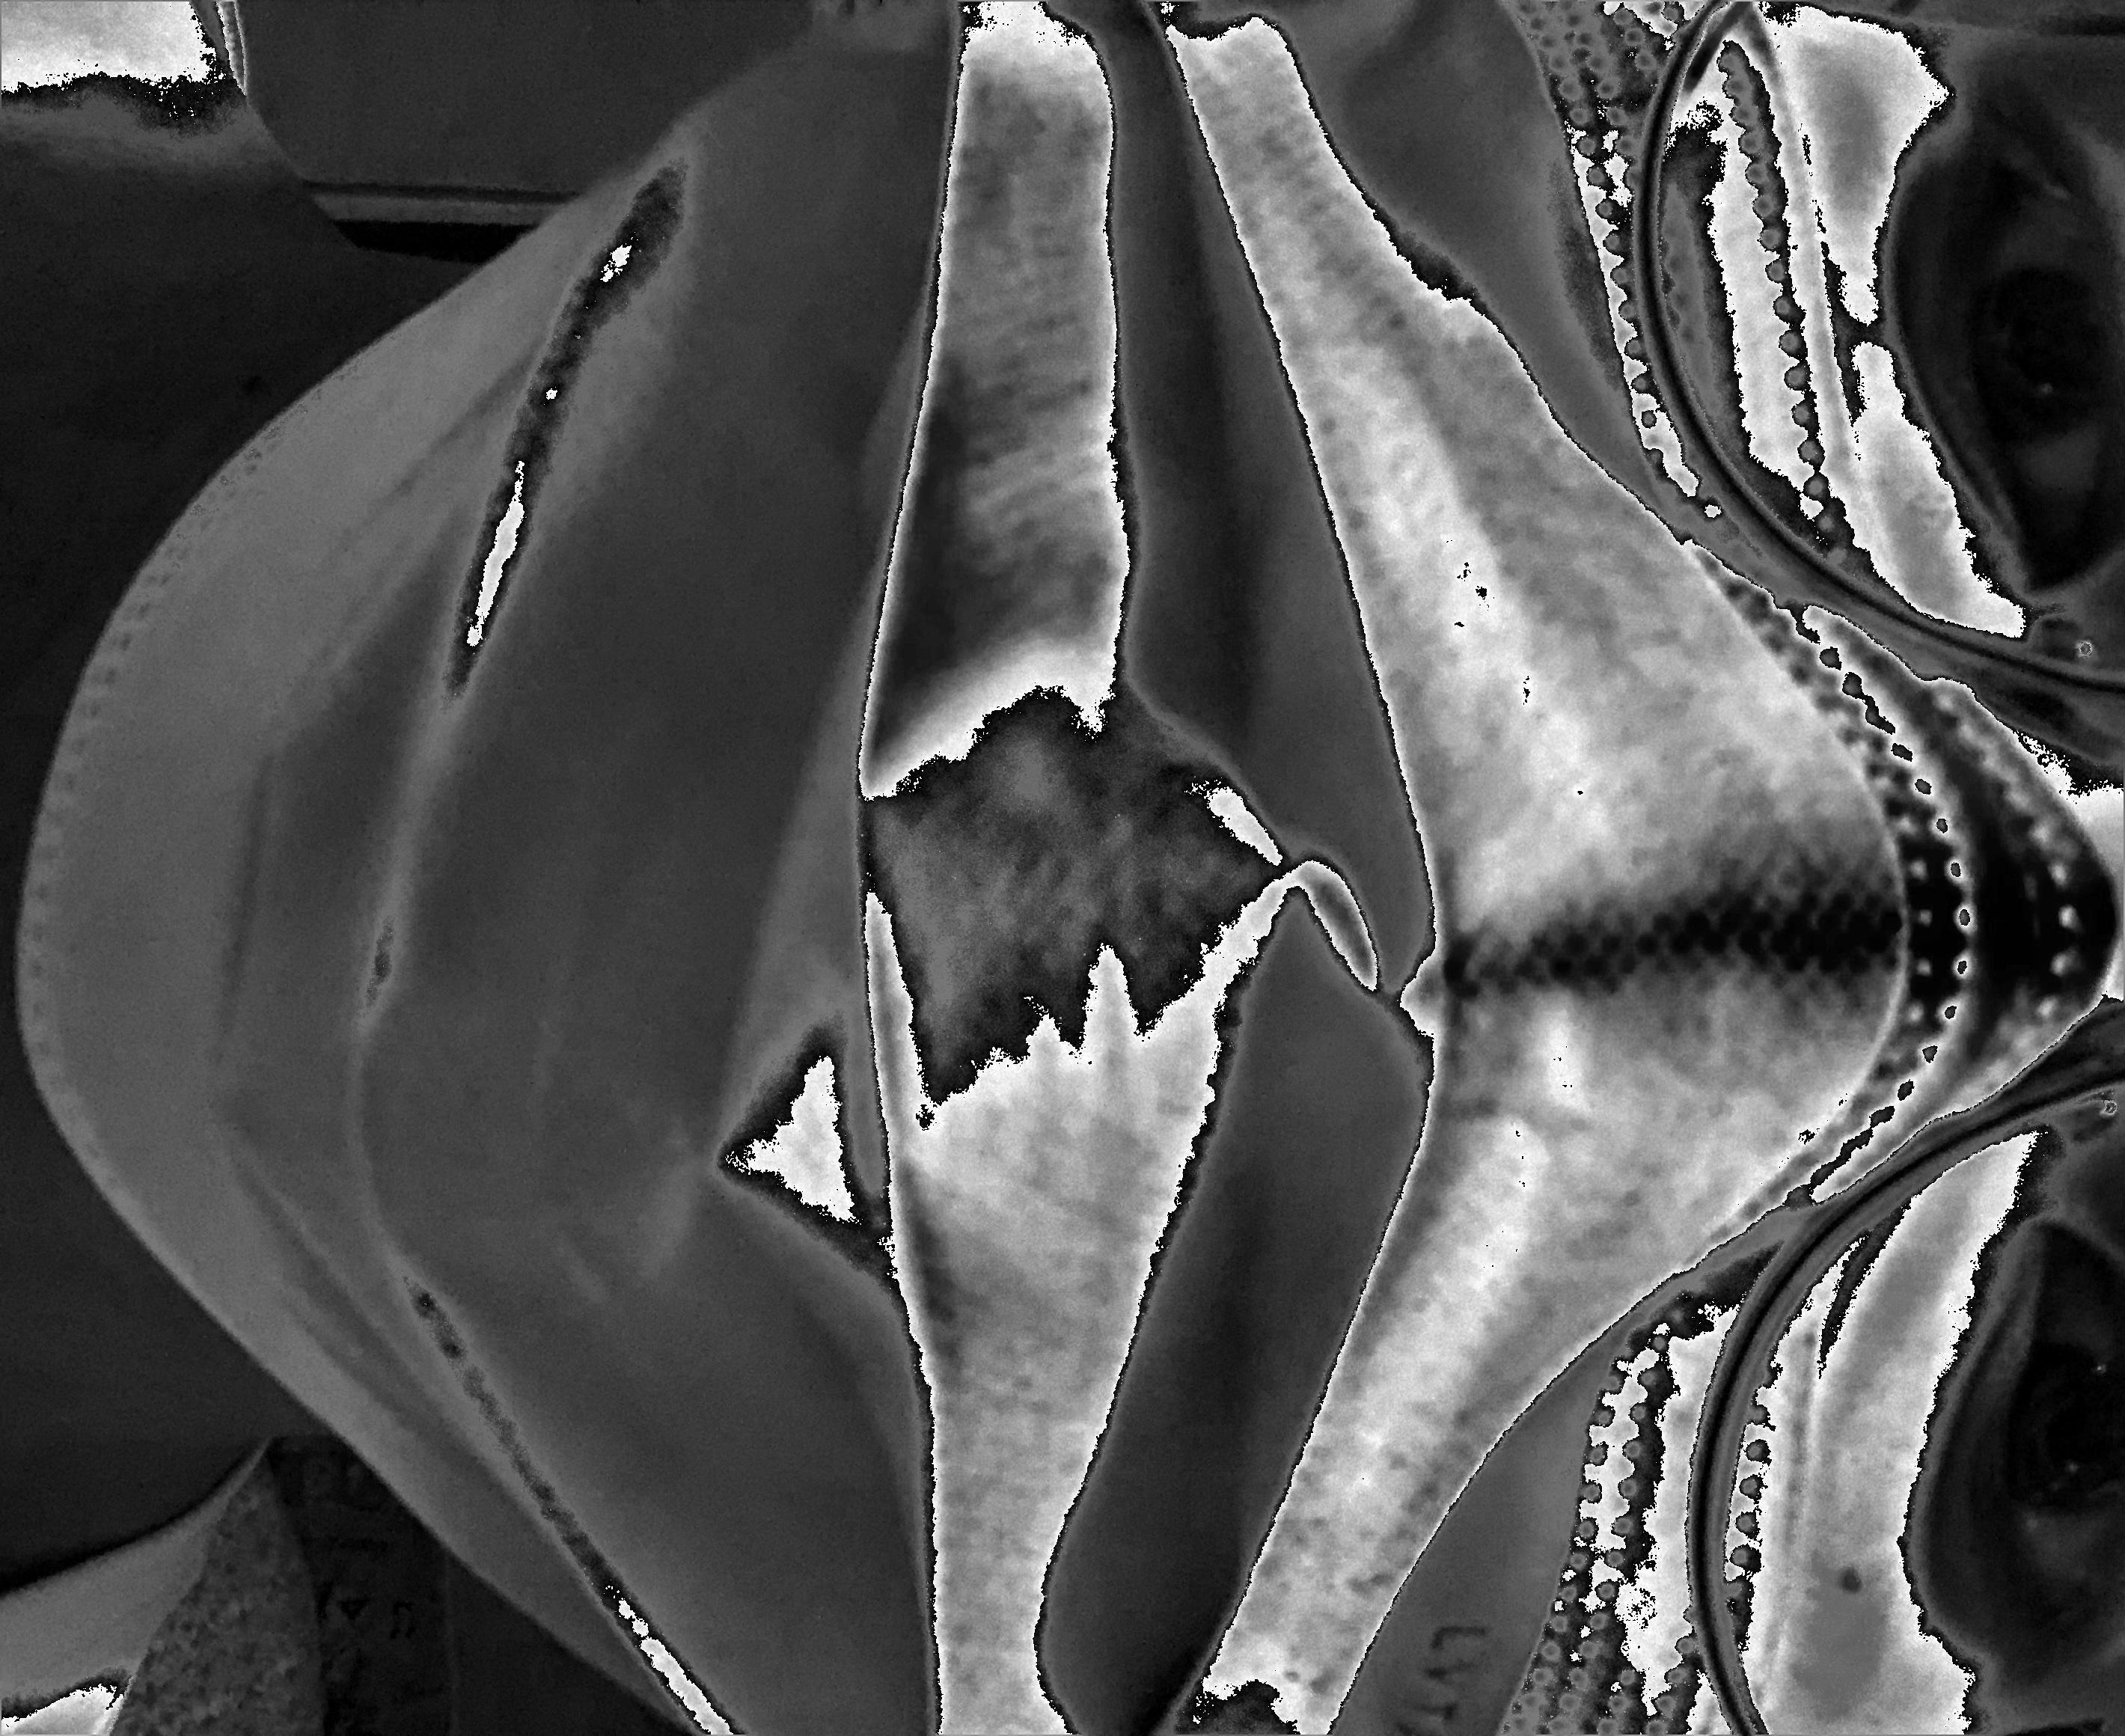High GSM: (1320, 492, 1871, 1343)
Undefined Area: (0, 9, 909, 1731)
